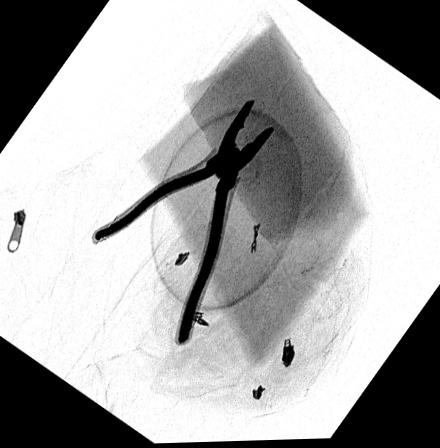Pliers: (92, 98, 275, 344)
